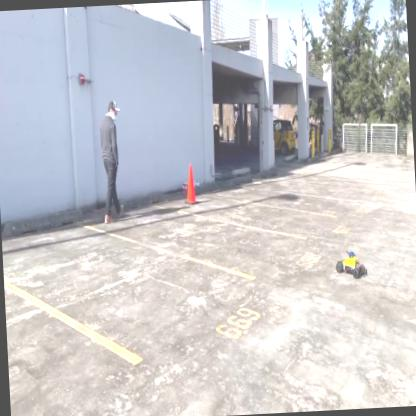cone: (181, 160, 198, 204)
mushr_car: (332, 242, 370, 281)
